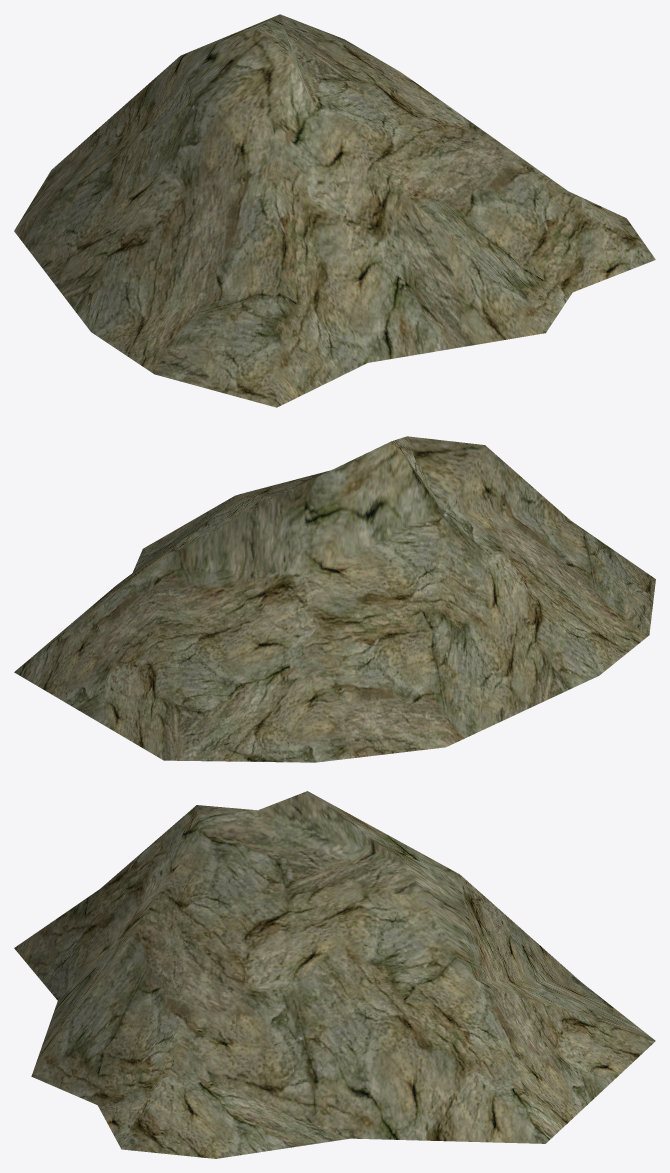
The model's file is rock_plain_white_a2_l2.fbx.
3 renders of one model, top to bottom at view 1: azimuth 30°, elevation 25°; view 2: azimuth 150°, elevation 25°; view 3: azimuth 270°, elevation 25°, orthographic. The views are drawn at different scales.
Visible parts, largest first — view 1: mesh_node; view 2: mesh_node; view 3: mesh_node.
Boxes of the visible parts, box(x1,y1,x2,y2) form: mesh_node: box(14, 14, 655, 407); mesh_node: box(14, 436, 655, 762); mesh_node: box(14, 791, 655, 1158).
Bounding box in the file's own units: 7.37 × 3.15 × 8.35.
